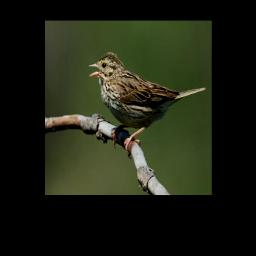Sparrow: (87, 51, 205, 159)
